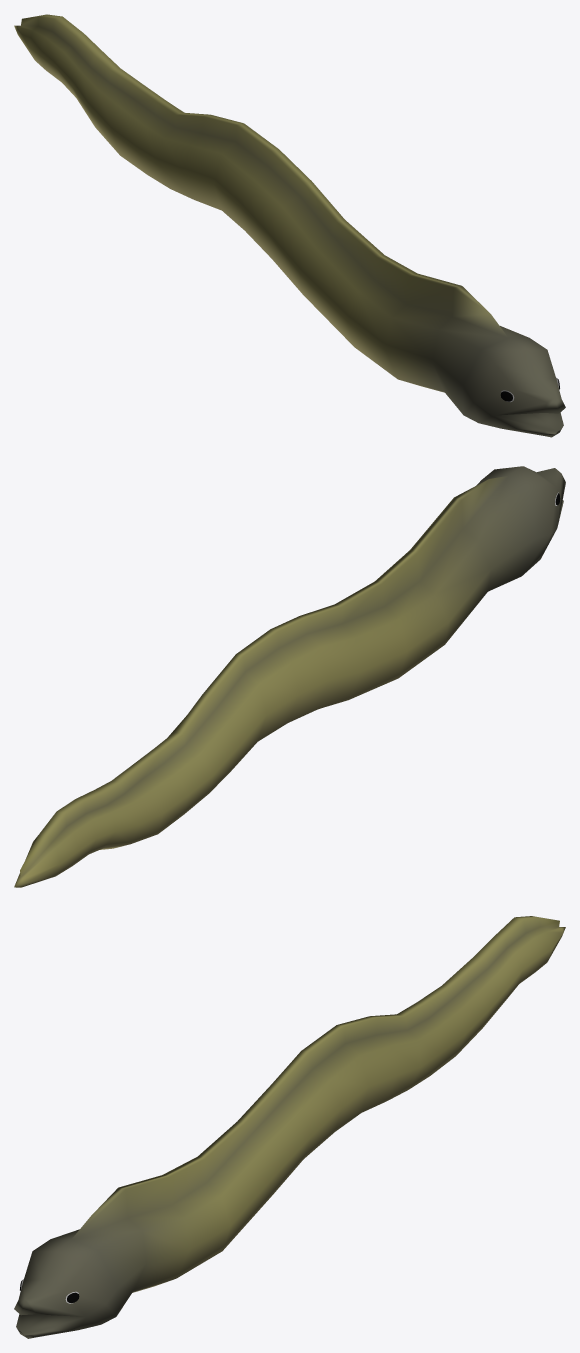
The model's file is underwater-fish-moray-eel_v1.glb.
The picture shows the model from 3 angles, top to bottom: view 1: azimuth 30°, elevation 25°; view 2: azimuth 150°, elevation 25°; view 3: azimuth 330°, elevation 25°; orthographic projection.
Visible parts, largest first — view 1: Moray Eel; view 2: Moray Eel; view 3: Moray Eel.
Boxes of the visible parts, x1,y1,x2,y2 form: Moray Eel: (14, 14, 565, 437); Moray Eel: (14, 466, 565, 887); Moray Eel: (14, 916, 565, 1338).
Bounding box in the file's own units: 0.1223 × 0.1976 × 1.5.
